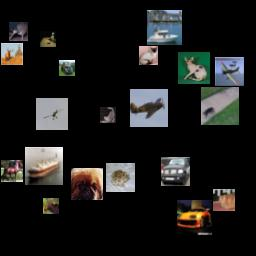airplane: (130, 89, 168, 127), (36, 98, 68, 130), (215, 57, 244, 86)
automobile: (177, 200, 212, 235), (161, 157, 190, 186)
bird: (9, 22, 28, 41), (40, 31, 56, 47)
cat: (201, 87, 239, 125), (178, 52, 210, 84), (213, 189, 235, 211), (139, 46, 158, 65), (100, 107, 116, 123)
deer: (1, 43, 23, 65), (43, 198, 59, 214)
dog: (71, 168, 103, 200)
frog: (106, 163, 135, 192)
ship: (25, 147, 63, 185), (147, 10, 182, 45)
truck: (59, 60, 75, 76)
